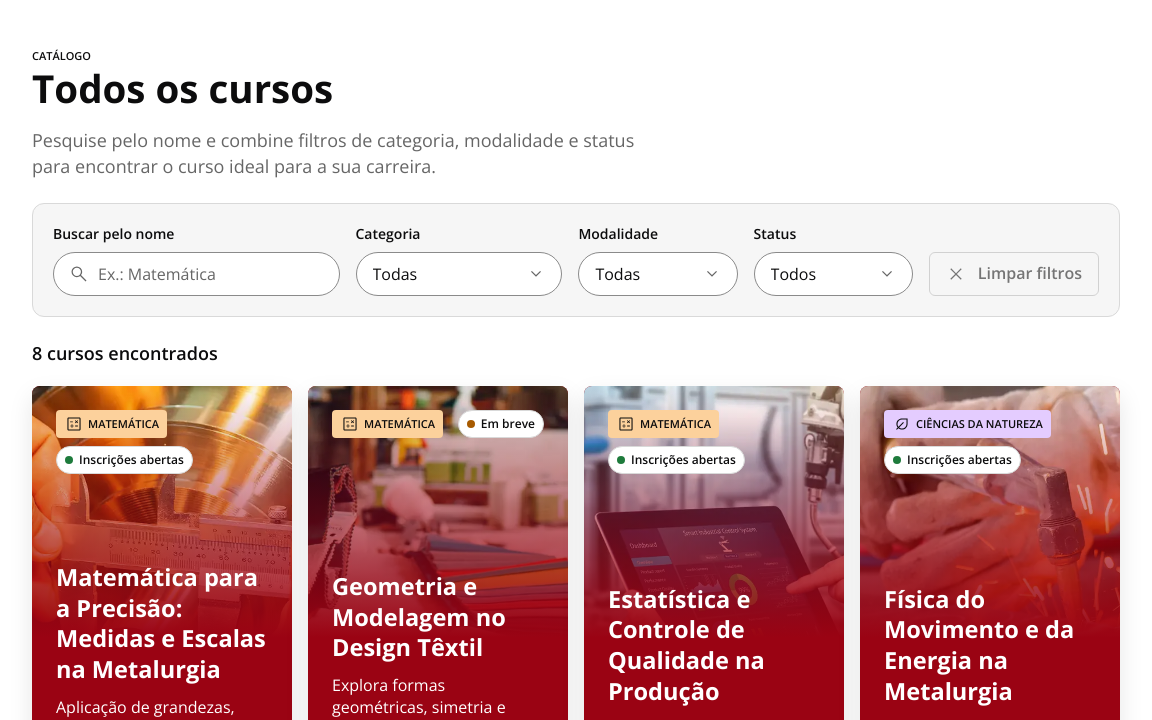
Test case: CatalogPage › pesquisa pelo nome (sem acentos) e combina com filtros
The width and height of the screenshot is (1152, 720).
Type "metalurgia" into the search field labelled "Buscar pelo nome". click: (196, 274)
box: [53,252,340,296]
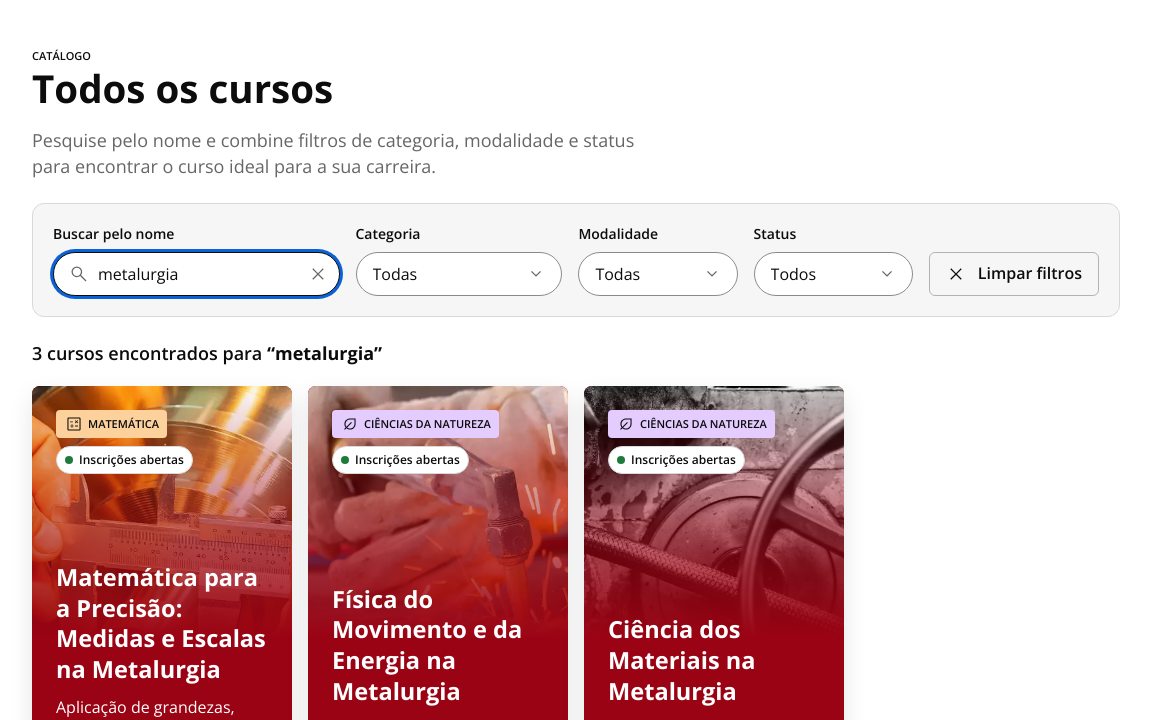
Expected: the message "3 cursos encontrados para “metalurgia”" is shown, [32,341,382,366]
Select "Ciências da Natureza" in the dropdown labelled "Categoria". click: (459, 274)
box: [356,252,562,296]
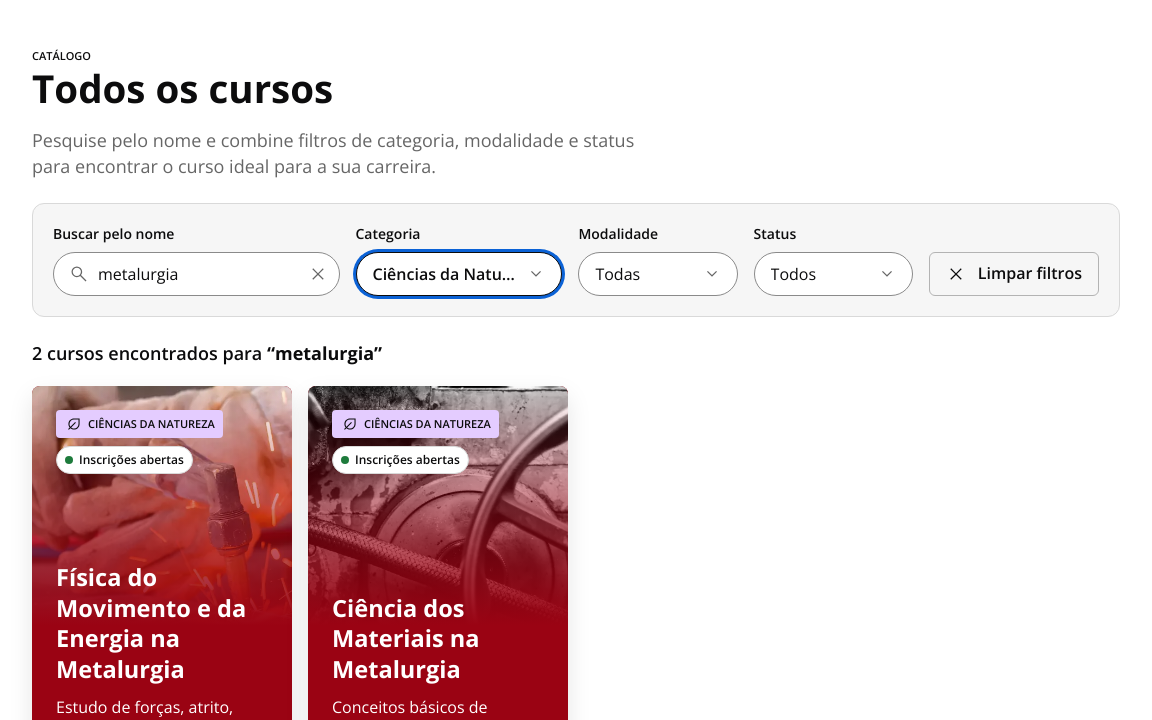
Expected: the message "2 cursos encontrados para “metalurgia”" is shown, [32,341,382,366]
Expected: the headings read "Física do Movimento e da Energia na Metalurgia", "Ciência dos Materiais na Metalurgia", in this order, [56,562,268,685]; [332,592,480,685]
